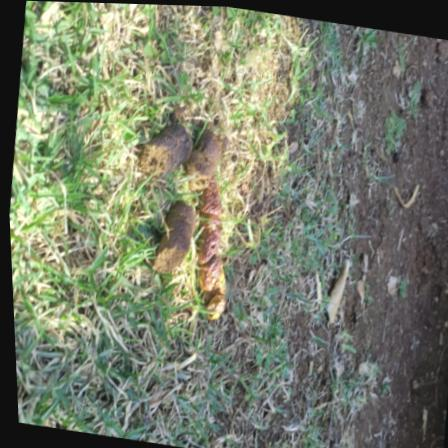dog-poop: (112, 113, 263, 325)
